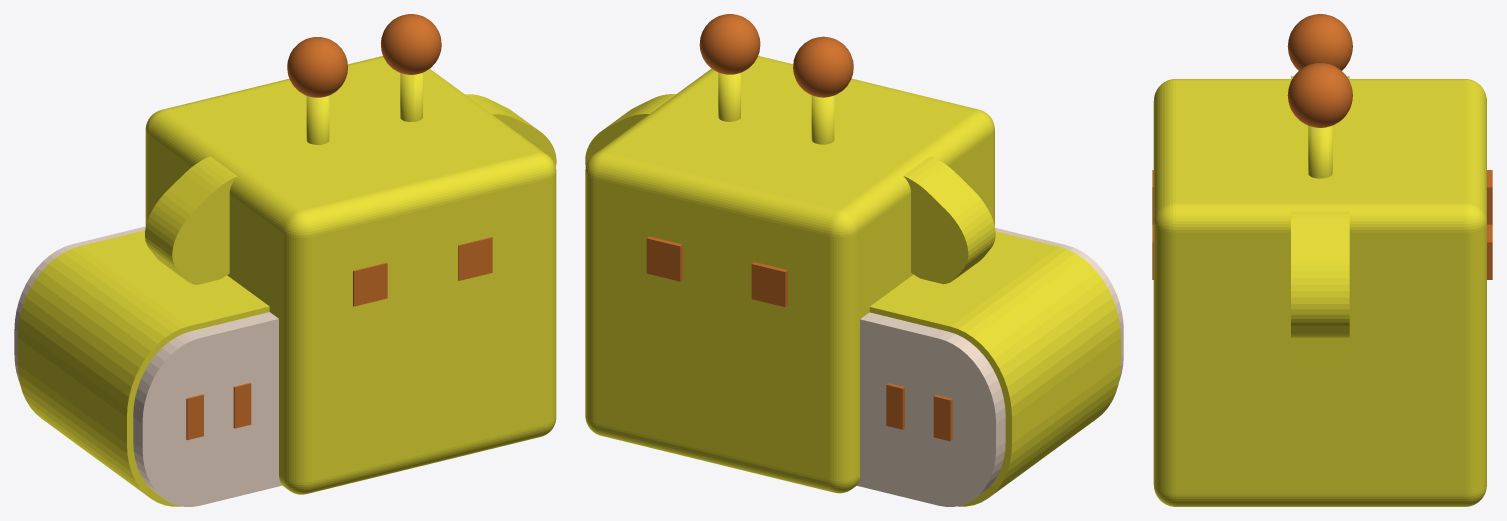
File: kirin.gltf
3 renders of one model, left to right at view 1: azimuth 30°, elevation 25°; view 2: azimuth 150°, elevation 25°; view 3: azimuth 270°, elevation 25°, orthographic. The views are drawn at different scales.
Parts seen in each view (by area): view 1: head.001; view 2: head.001; view 3: head.001.
Boxes of the visible parts, x1,y1,x2,y2 form: head.001: (14,14,556,506); head.001: (585,14,1123,506); head.001: (1152,14,1492,506).
Bounding box in the file's own units: 3.48 × 2.71 × 2.04.
1 material, 1 textured.
